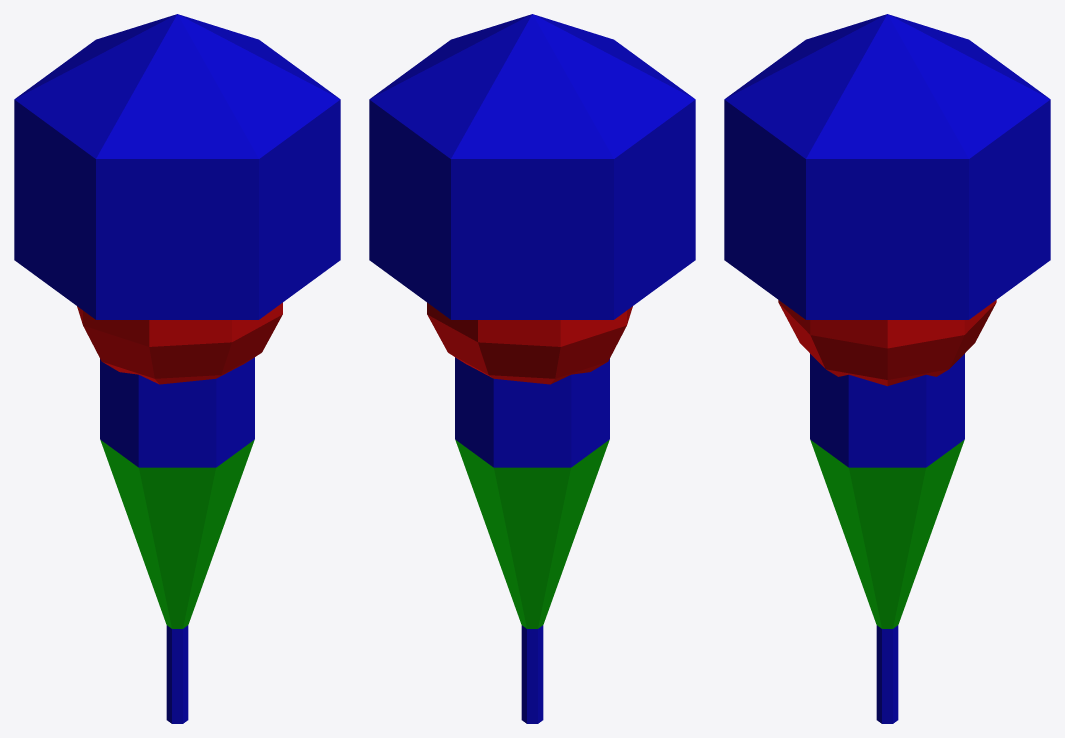
Rendered from ip_badguy1.obj.
The picture shows the model from 3 angles, left to right: view 1: azimuth 30°, elevation 25°; view 2: azimuth 150°, elevation 25°; view 3: azimuth 270°, elevation 25°; orthographic projection.
Parts seen in each view (by area): view 1: Sphere; view 2: Sphere; view 3: Sphere.
Part boxes in pixels (x1,y1,x2,y2): Sphere: [14, 14, 340, 723]; Sphere: [369, 14, 695, 723]; Sphere: [724, 14, 1050, 723].
Size of the model in its own units: 0.7273 by 2.01 by 0.8398.
